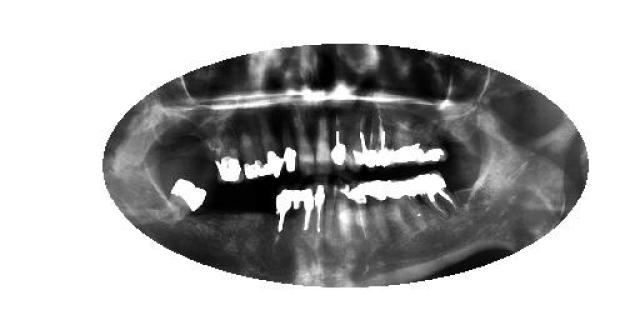Fillings: (161, 176, 205, 228), (214, 132, 246, 186), (366, 180, 394, 238), (416, 116, 449, 165), (259, 119, 285, 178), (393, 174, 418, 234), (242, 126, 266, 180), (392, 122, 416, 166), (345, 181, 366, 231), (282, 124, 298, 174), (290, 186, 304, 214)
Implant: (414, 172, 460, 212), (355, 111, 375, 169), (332, 115, 348, 171), (275, 185, 291, 241), (375, 115, 391, 169), (315, 182, 326, 242), (302, 186, 314, 232)
